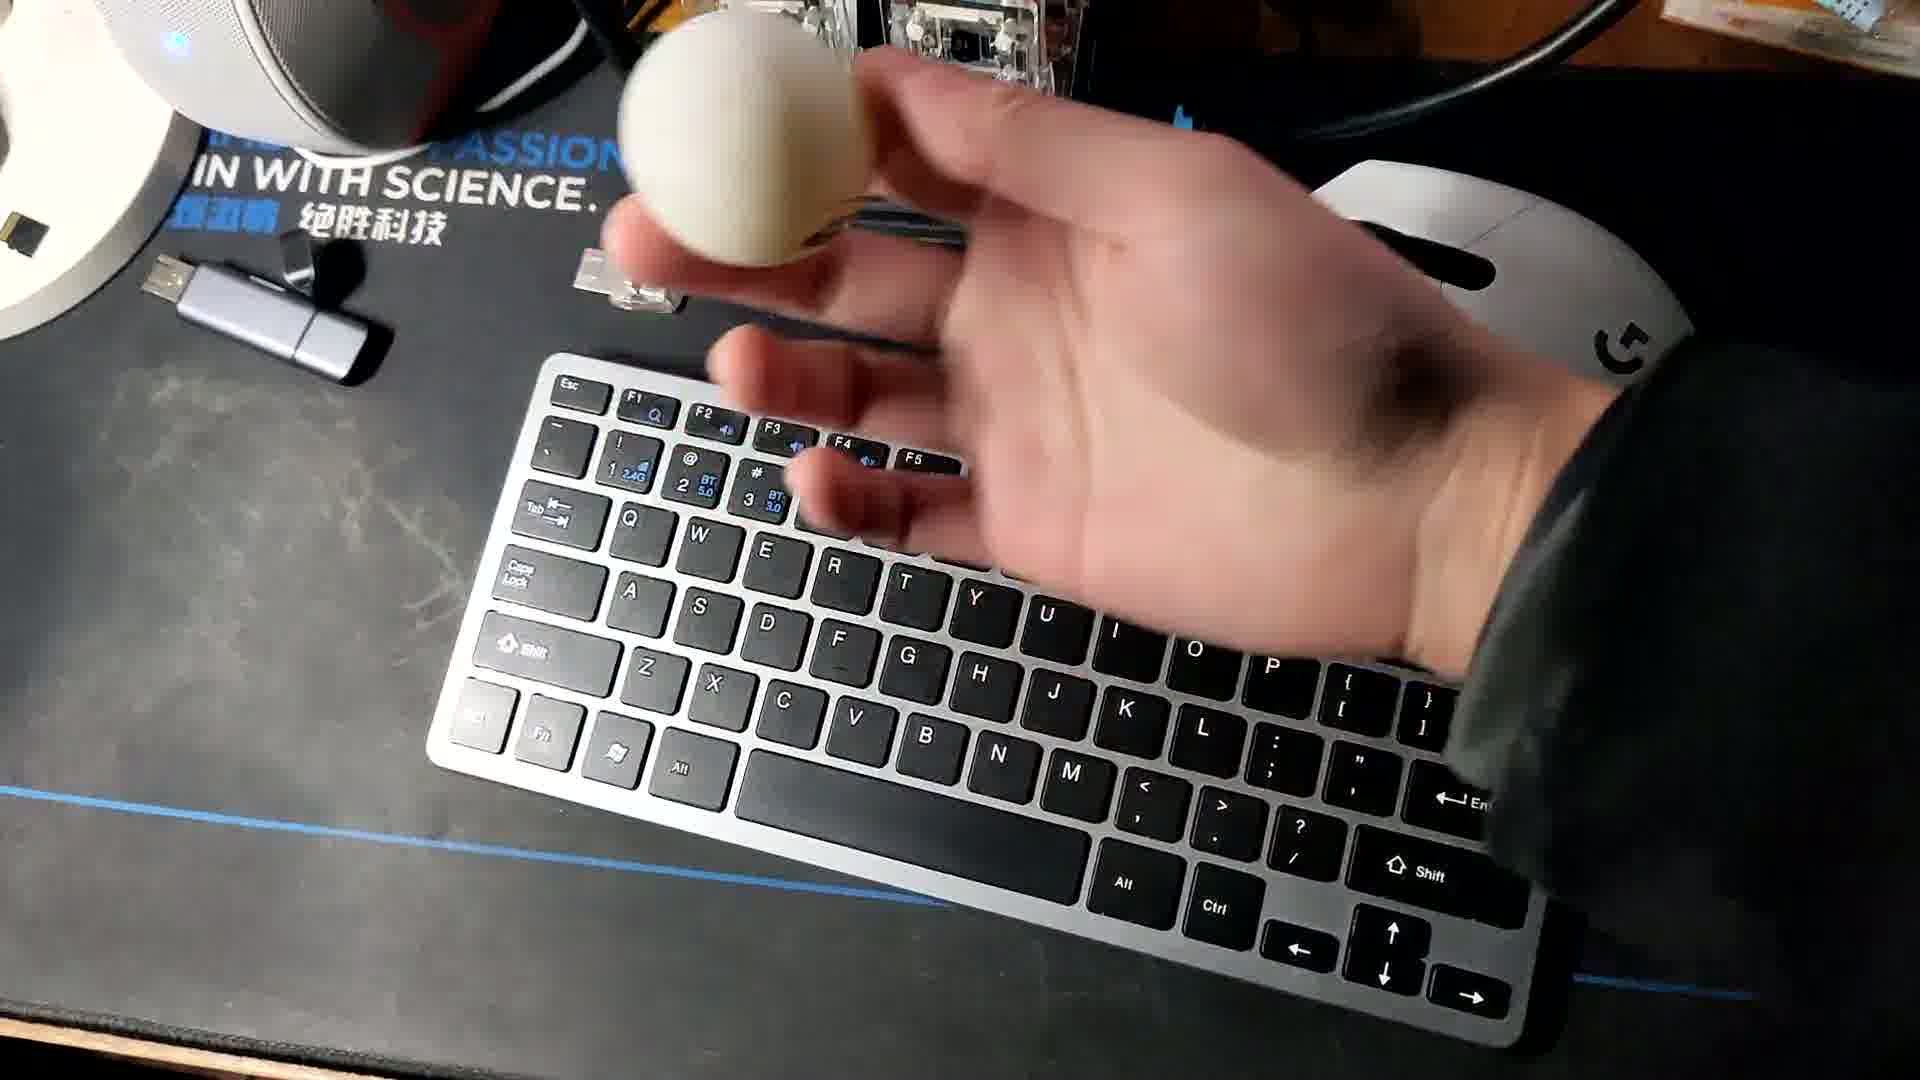Ball: (615, 15, 880, 265)
